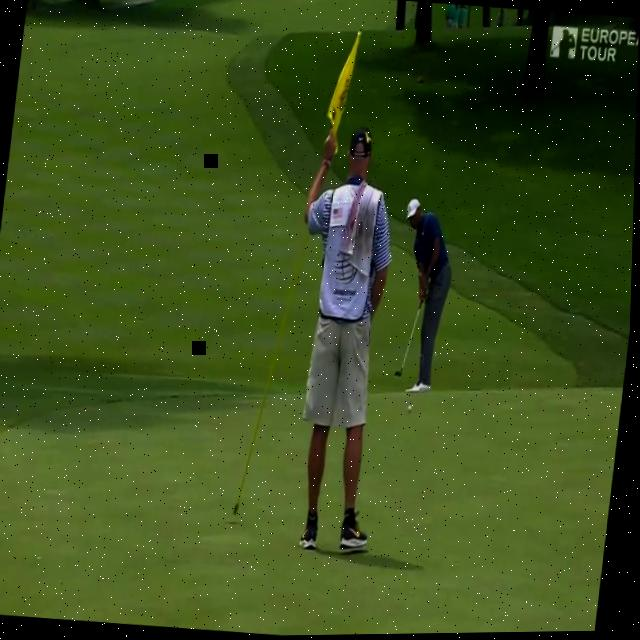GolfBall: (405, 401, 419, 415)
